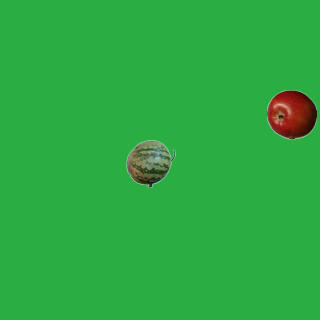Apple Braeburn: (266, 89, 316, 139)
Watermelon: (125, 138, 175, 188)
